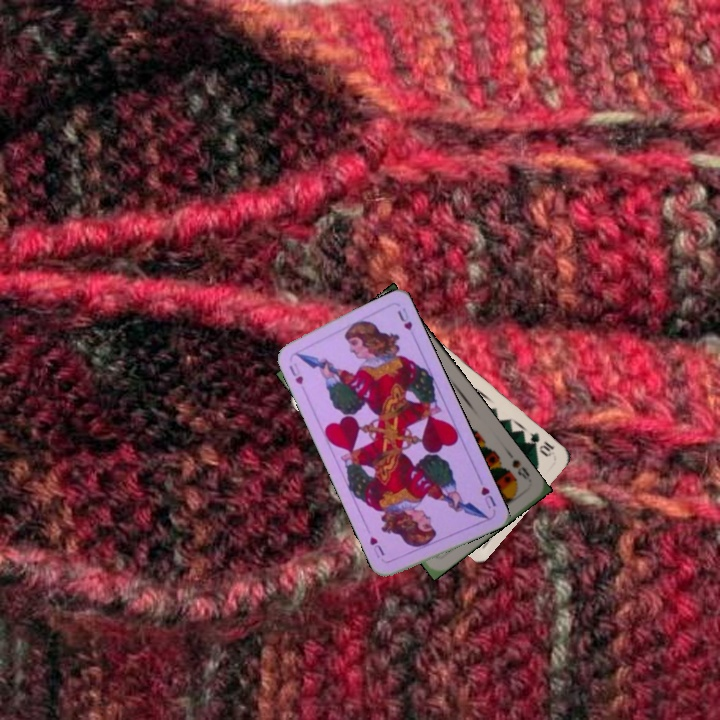G10: (525, 428, 557, 459)
HU: (477, 482, 499, 514), (285, 358, 306, 387)
S8: (508, 455, 532, 483)
